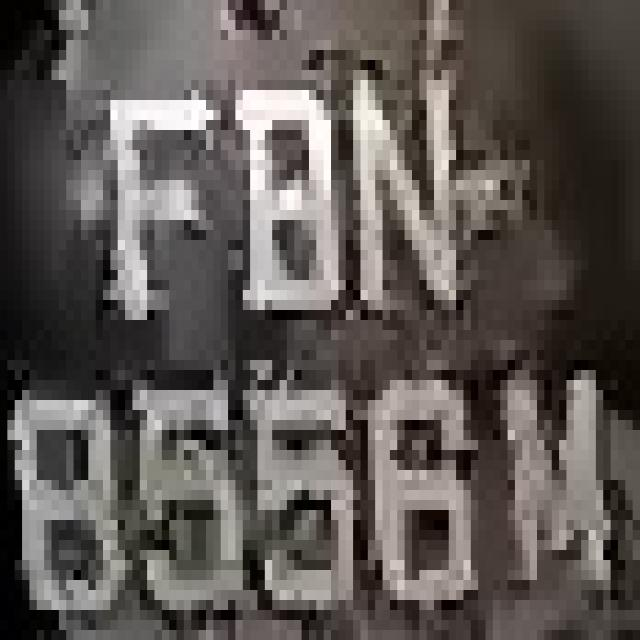5: (258, 340, 353, 630), (147, 350, 250, 600)
6: (360, 330, 493, 590)
8: (22, 350, 140, 640)
B: (221, 60, 331, 360)
F: (88, 50, 221, 310)
M: (478, 340, 618, 620)
N: (338, 70, 486, 330)
